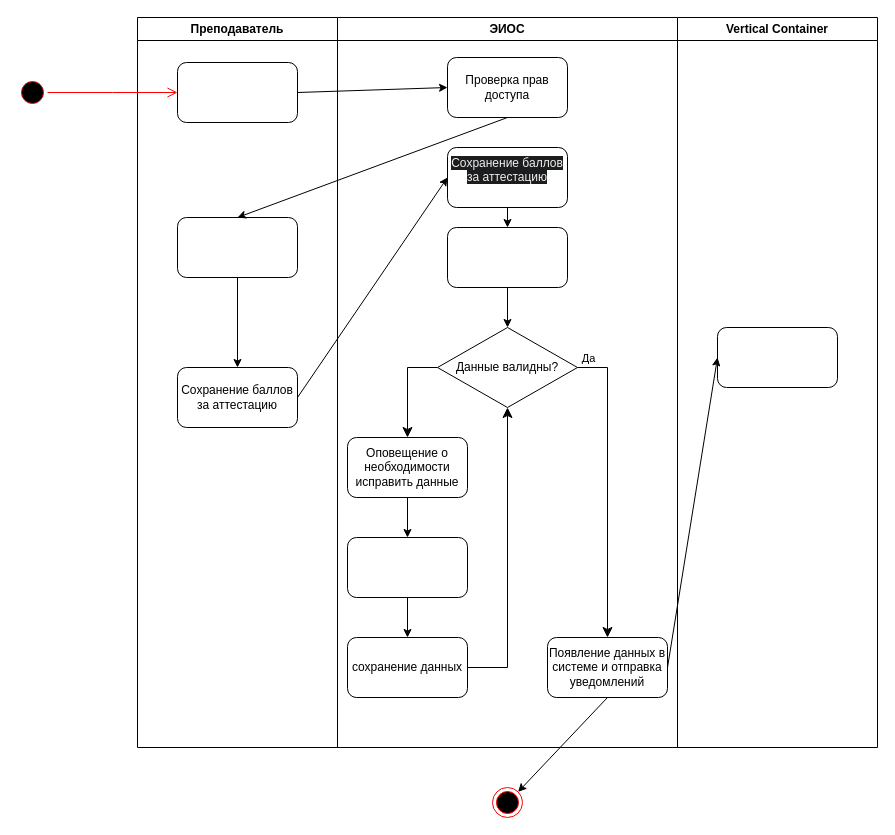
The diagram is 895 pixels wide and 835 high, and some of its shapes have lost their labels. The box of each missing label's shape, as (x1, y1, x2, y2) in pixels:
Авторизация в ЭИОС: (176, 62, 298, 122)
Валидация данных: (446, 226, 568, 288)
Исправление данных: (346, 536, 468, 598)
Просмотр баллов: (716, 326, 838, 388)
Проставление баллов за итоговую аттестацию: (176, 216, 298, 278)
